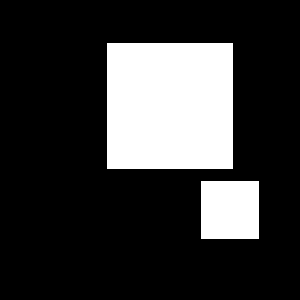circle: (107, 43, 233, 169), (201, 181, 259, 239)
